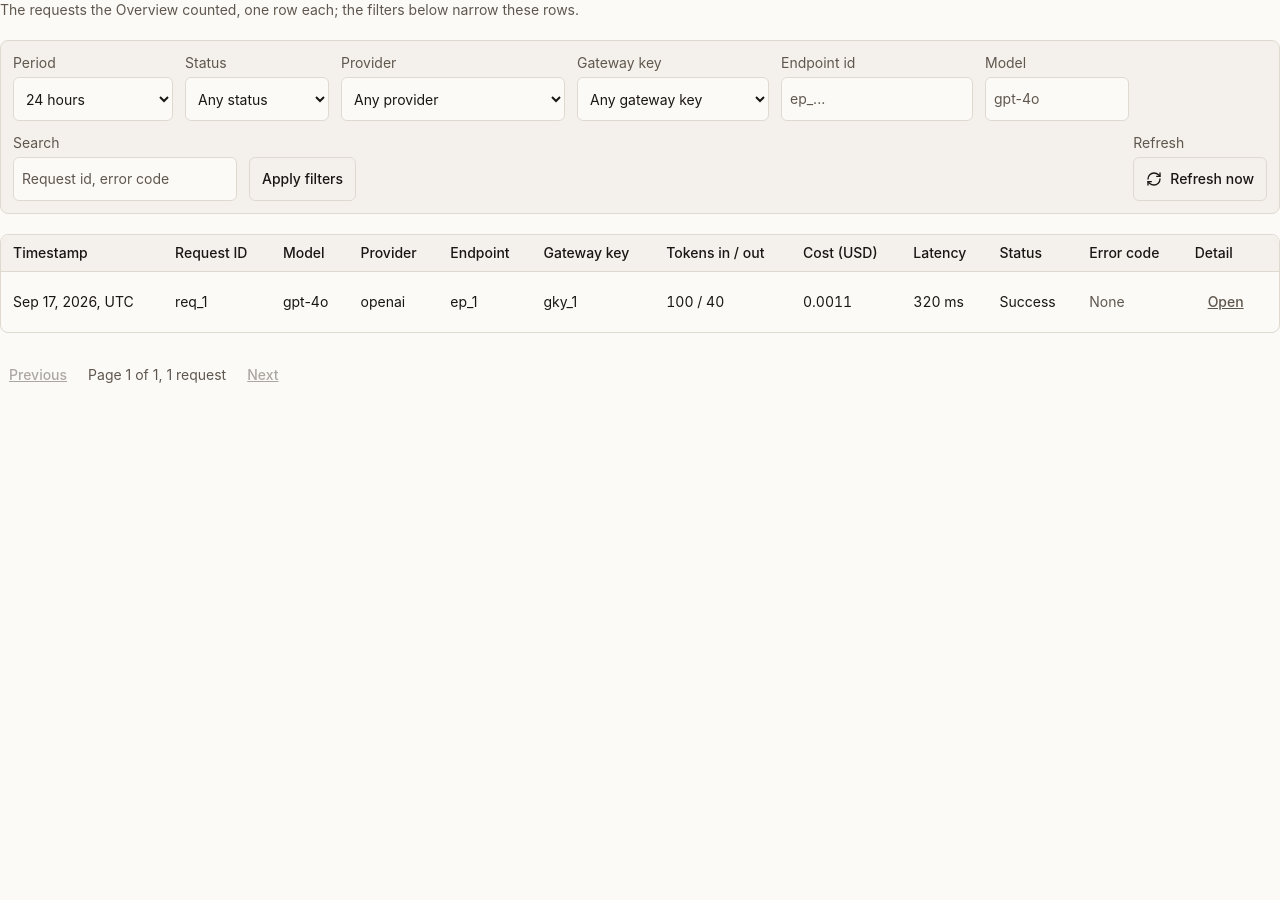
Test: the records table and its drawer › distinguishes capture on without a stored log from capture off
The width and height of the screenshot is (1280, 900).
Check: the table is shown, box [1, 235, 1279, 332]
Step 1. Click the button with aria-label "Open request" → (1226, 302), box [1195, 280, 1257, 324]
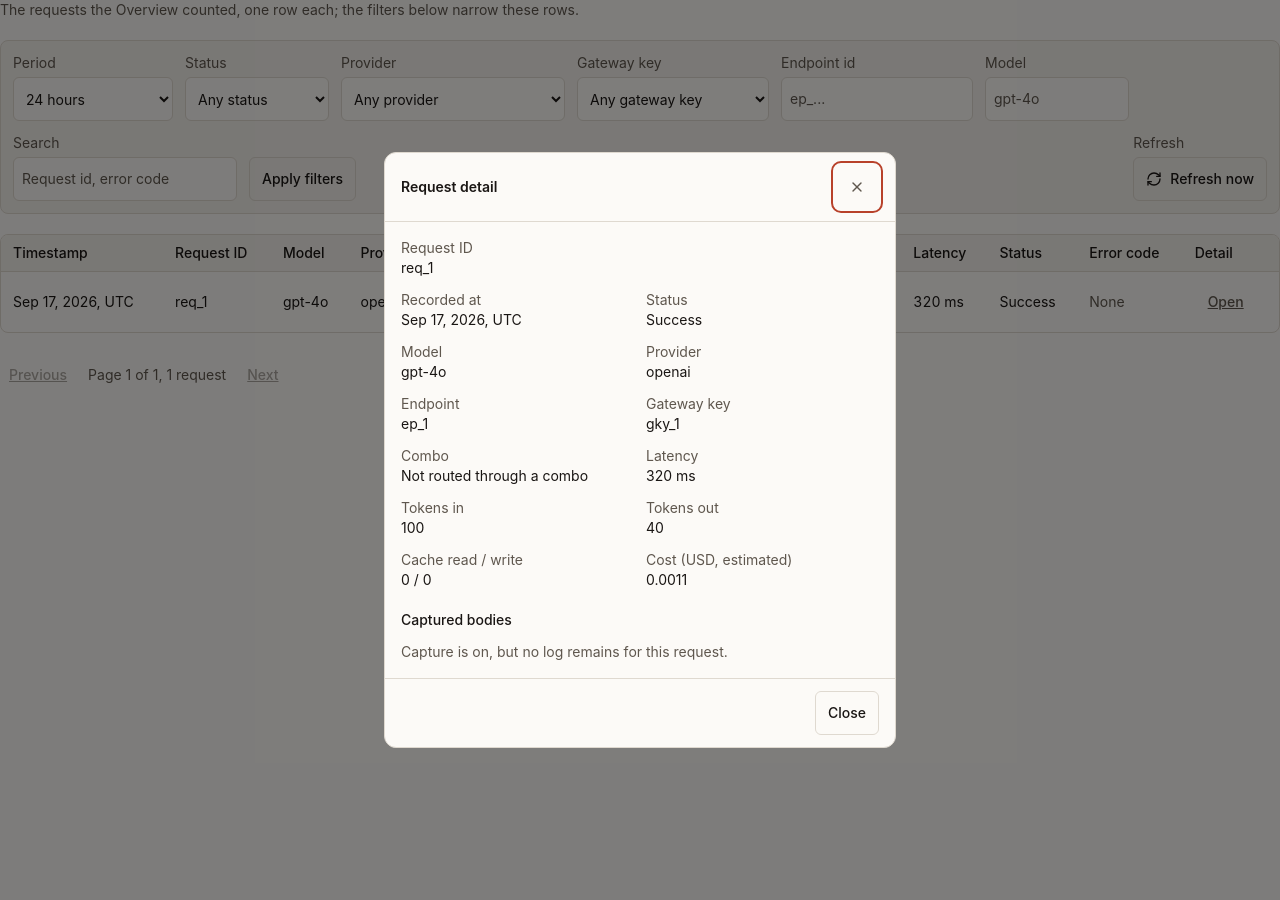
Check: the text "Capture is on, but no log remains for this request." is shown, box [401, 643, 728, 660]
